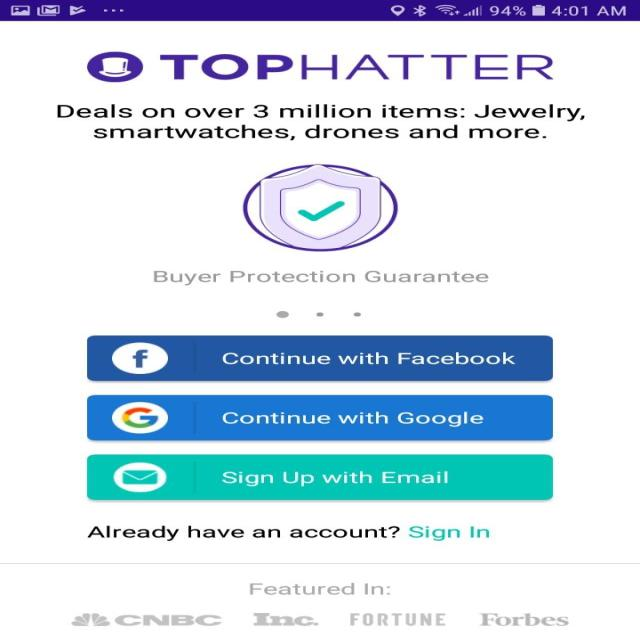Image: (242, 163, 398, 252), (86, 51, 144, 82), (70, 612, 110, 626)
Text: (57, 104, 585, 140), (159, 53, 553, 80), (86, 525, 489, 541), (153, 270, 489, 286), (249, 582, 391, 595), (350, 612, 446, 626), (114, 614, 222, 626), (477, 612, 569, 626), (253, 612, 319, 626)
TextButton: (86, 394, 553, 440), (86, 454, 553, 500), (86, 335, 552, 381)
